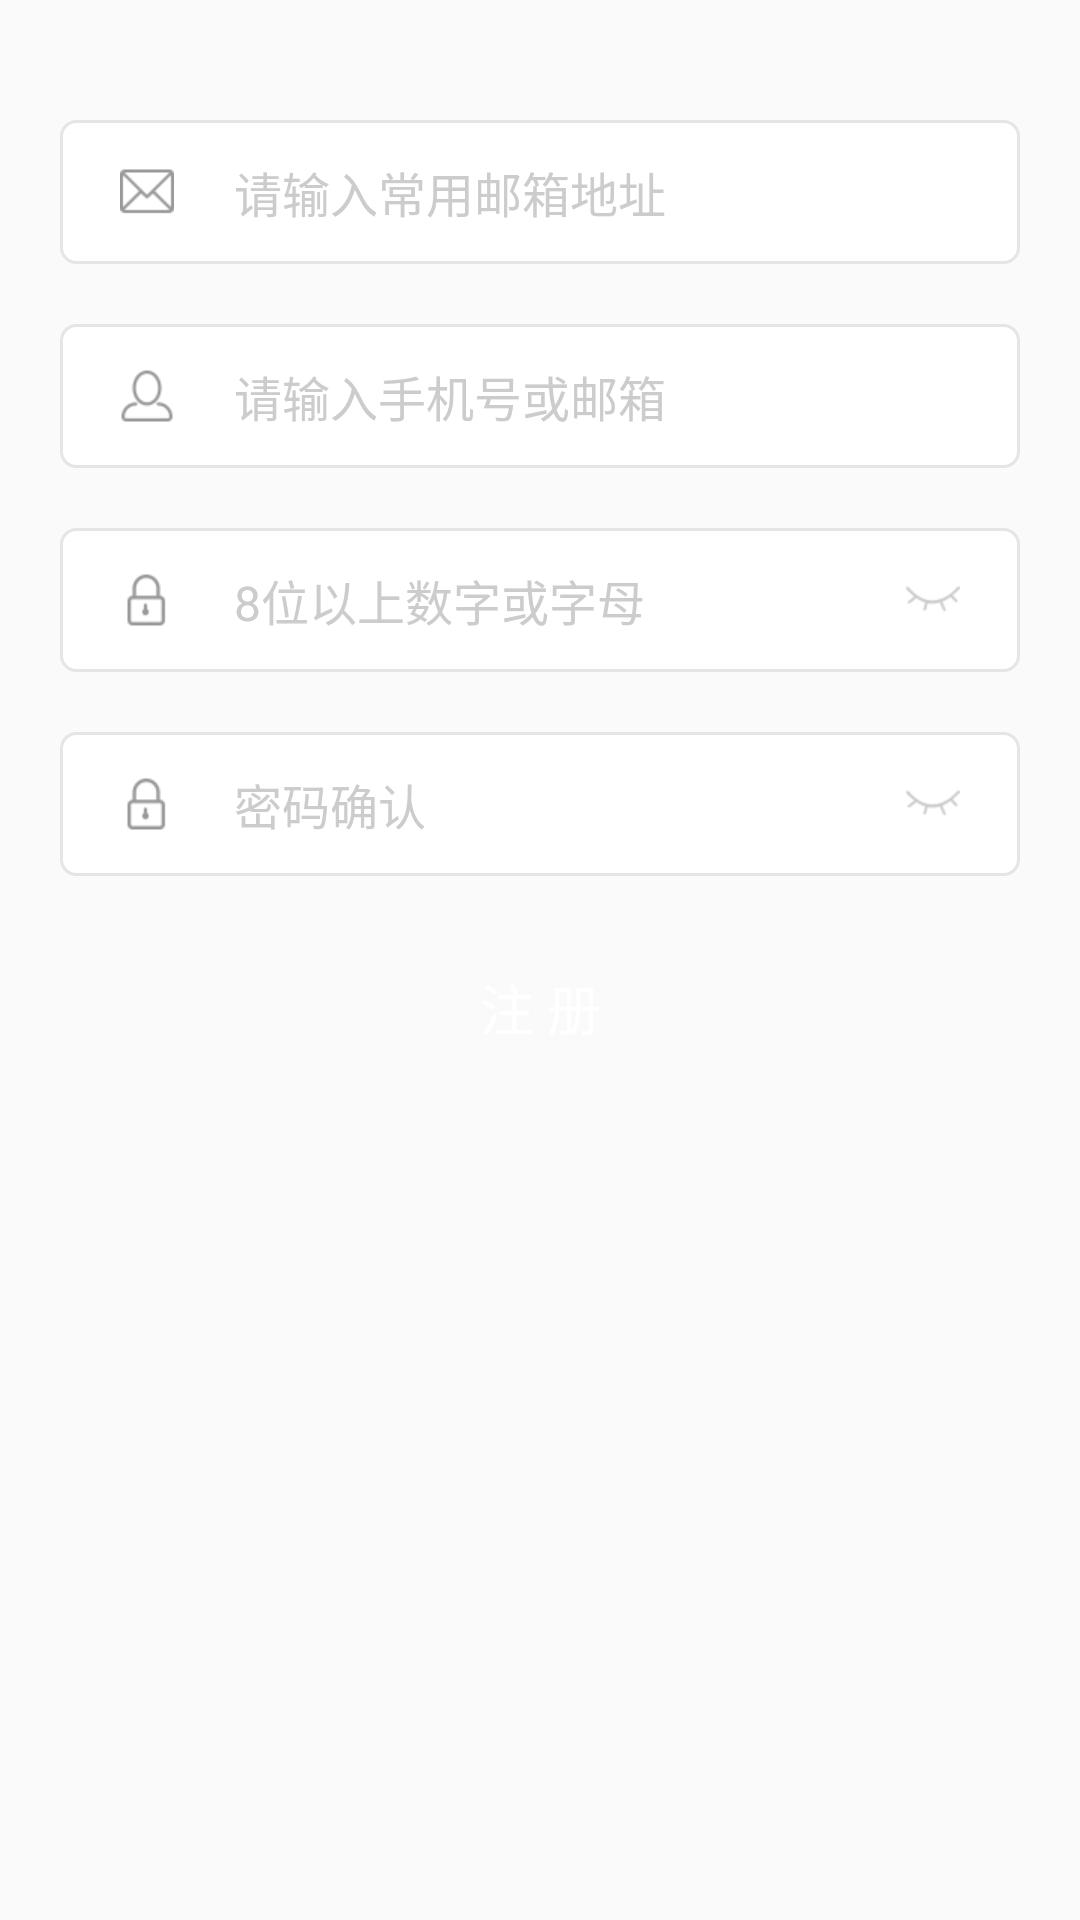

Screen size 1080×1920. Icon name, then its center in pixels as point (x, y):
hide pwd: point (933, 599), point (933, 803)
login lock: point (146, 600), point (146, 804)
login user: point (147, 396)
register email: point (147, 191)
